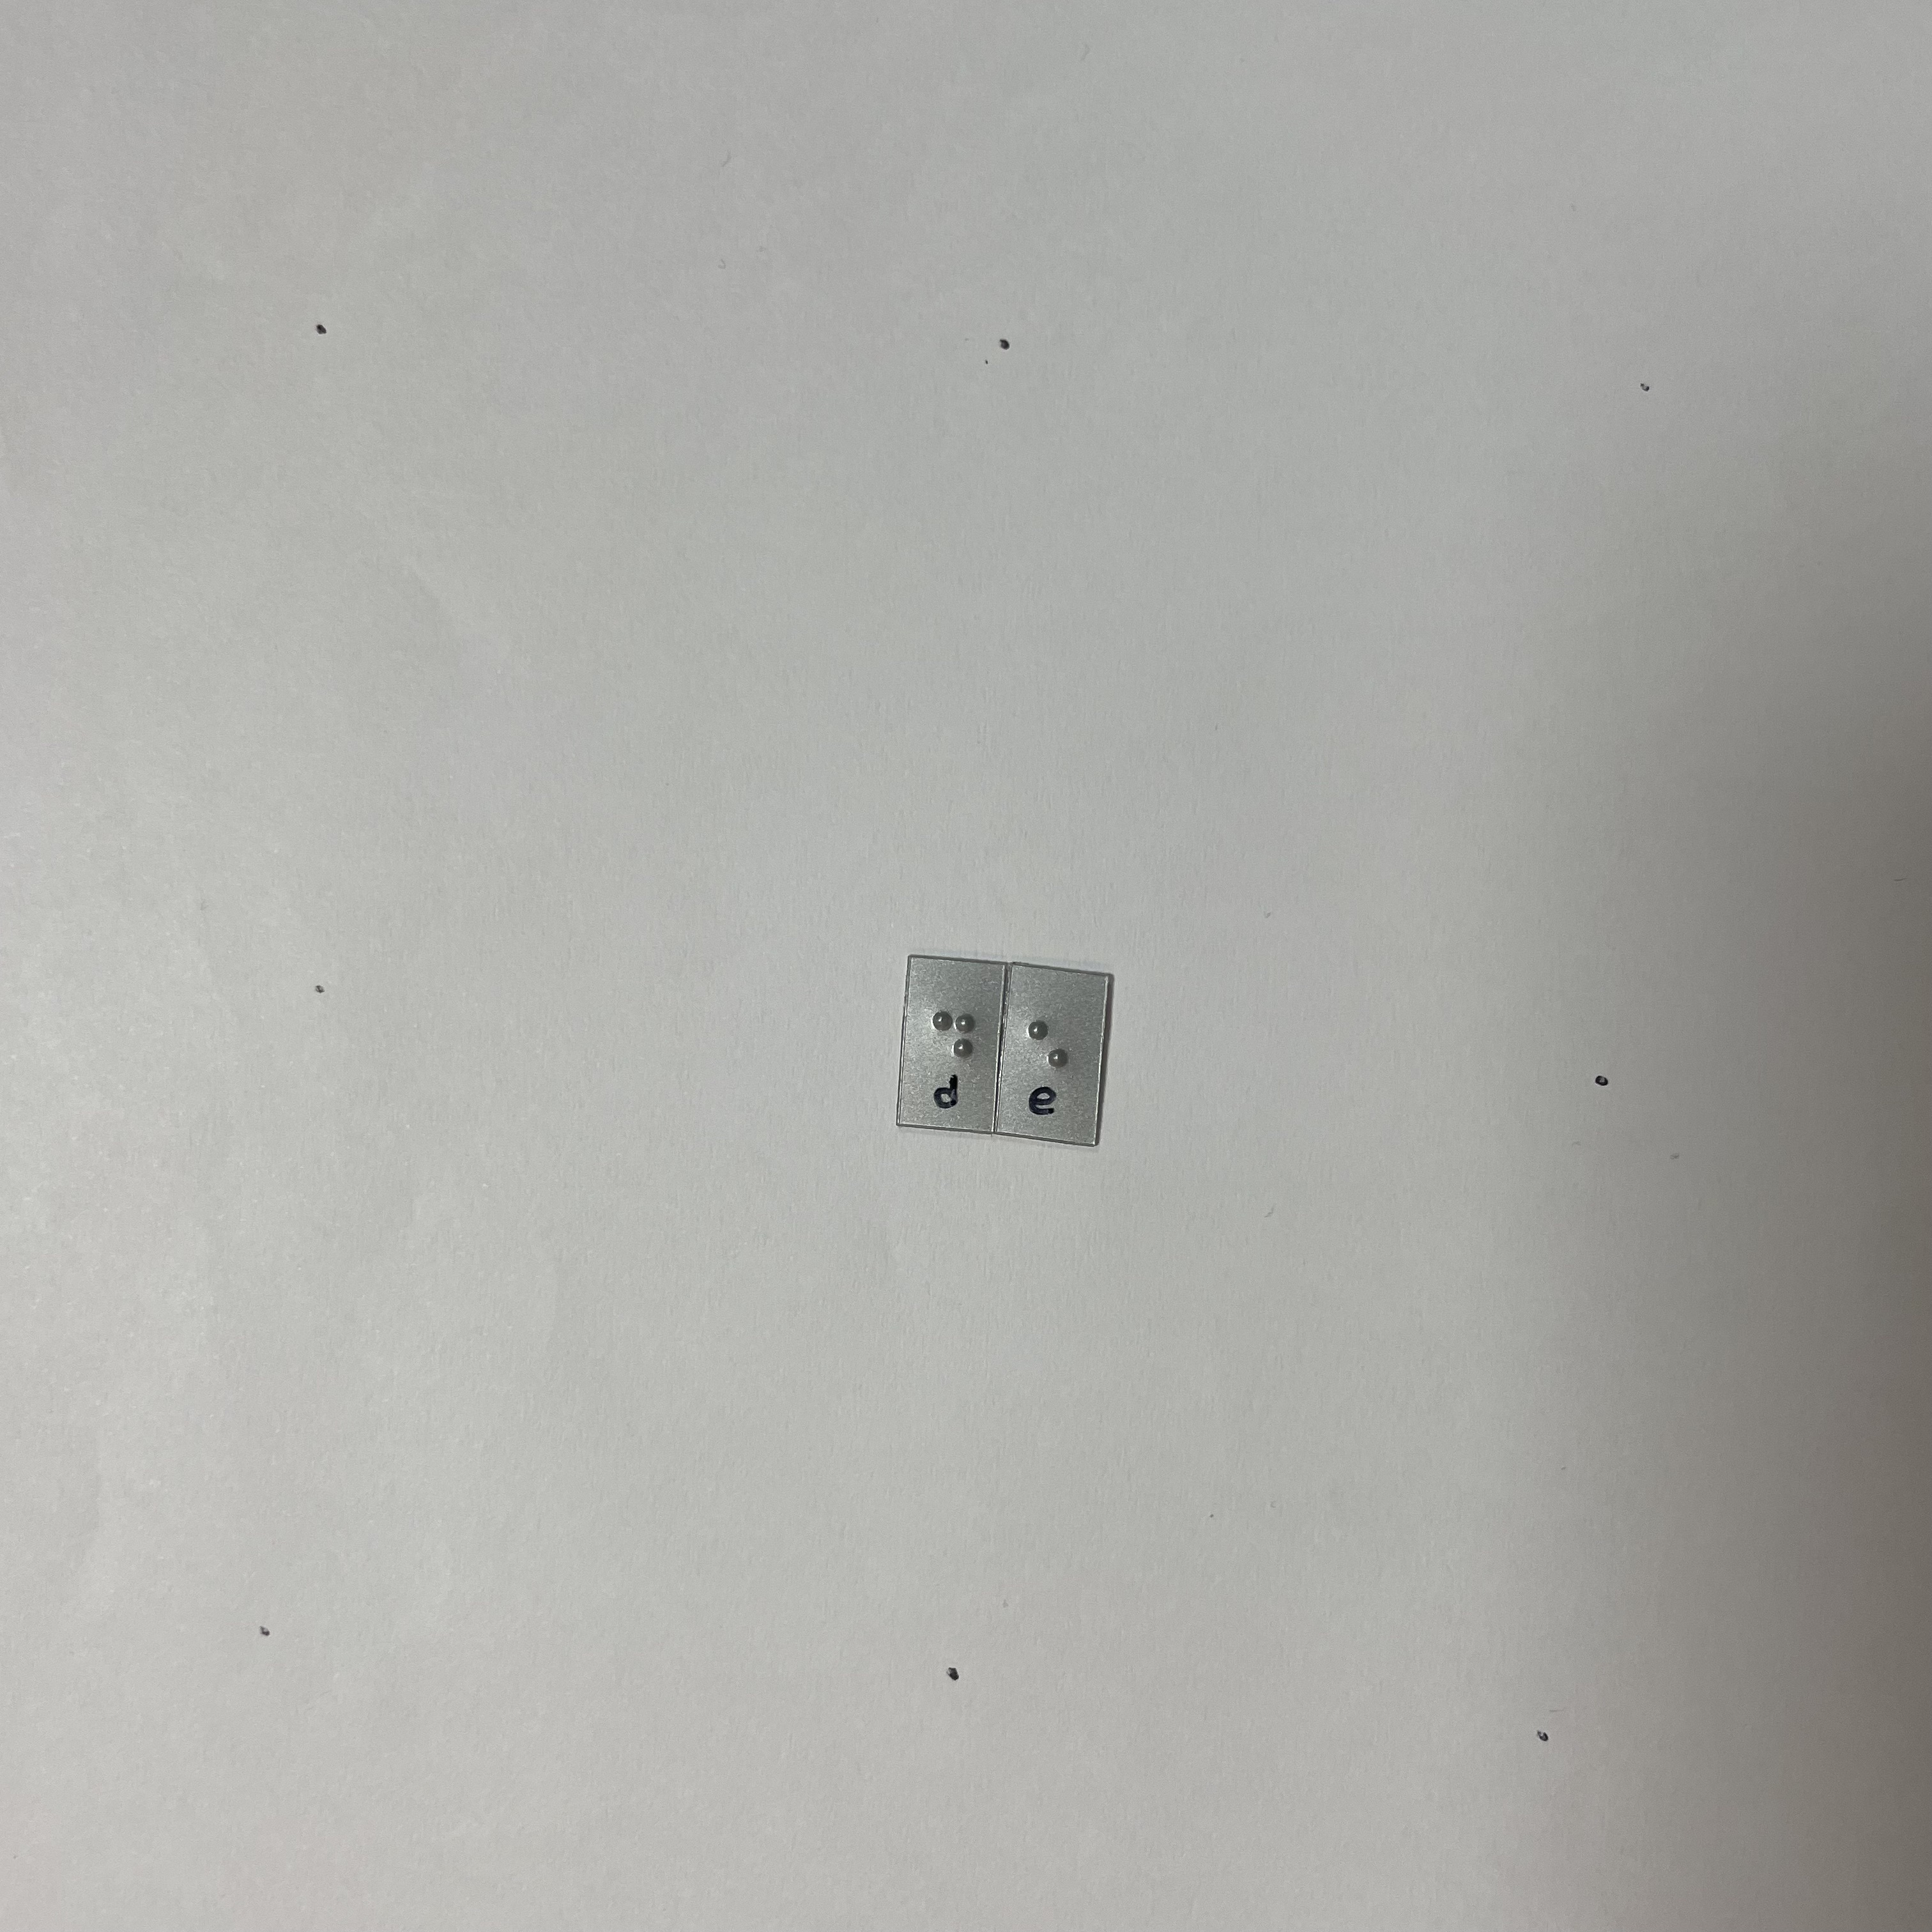d: (923, 1001, 982, 1089)
e: (1025, 1006, 1084, 1110)
